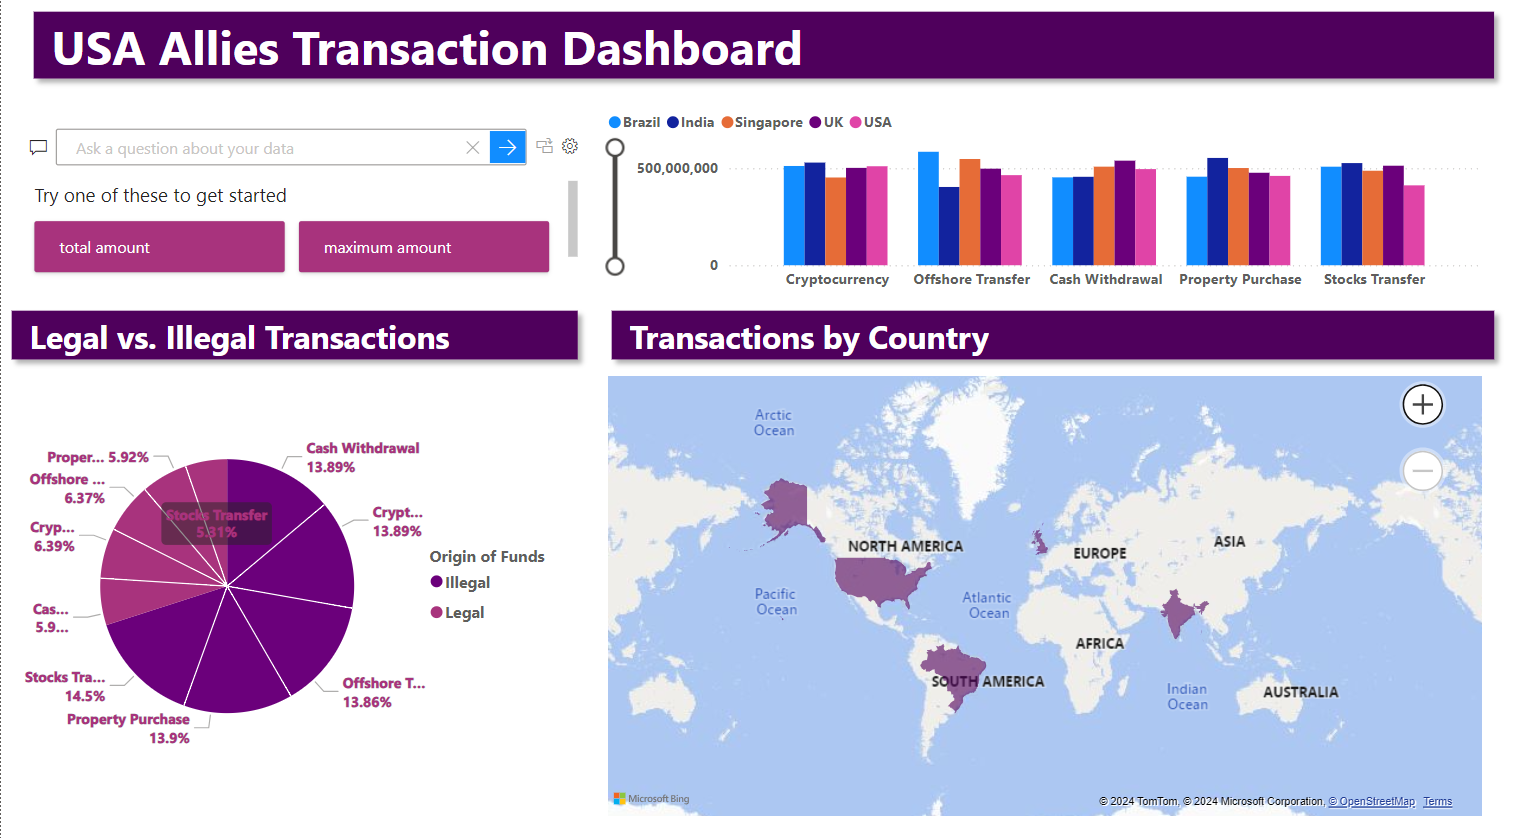

The dashboard page shown, as its layout file describes it:
{"tool":"powerbi","page":{"name":"Page 1","canvas":[1280,720],"ordinal":0},"visuals":[{"type":"shape","box":[18.8,11.6,1249.3,74.3],"z":0},{"type":"shape","box":[506,264.2,762.1,59.1],"z":1000},{"type":"shape","box":[0,264.2,495.2,59.1],"z":2000},{"type":"qnaVisual","box":[15.2,94,480,170.1],"z":3000},{"type":"pieChart","fields":{"Category":["Big_Black_Money_Dataset.Source of Money"],"Series":["Big_Black_Money_Dataset.Transaction Type"],"Y":["Sum(Big_Black_Money_Dataset.Amount)"]},"box":[15.2,323.3,471,364.5],"z":4000},{"type":"filledMap","fields":{"Category":["Big_Black_Money_Dataset.Country"]},"box":[506.9,323.3,746.9,380.6],"z":5000},{"type":"clusteredColumnChart","fields":{"Category":["Big_Black_Money_Dataset.Transaction Type"],"Series":["Big_Black_Money_Dataset.Country"],"Y":["Sum(Big_Black_Money_Dataset.Amount)"]},"box":[506.9,94,746.9,170.1],"z":5001}]}

Visuals, with their boxes in screenshot pixels (x1, y1, x2, y2), scaled from the page's 1280x720 canvas onto the 1519x838 screenshot:
shape: [22, 14, 1505, 100]
shape: [600, 307, 1505, 376]
shape: [0, 307, 588, 376]
qnaVisual: [18, 109, 588, 307]
pieChart - Big_Black_Money_Dataset.Source of Money x Big_Black_Money_Dataset.Transaction Type: [18, 376, 577, 801]
filledMap - Big_Black_Money_Dataset.Country: [602, 376, 1488, 819]
clusteredColumnChart - Big_Black_Money_Dataset.Transaction Type x Big_Black_Money_Dataset.Country: [602, 109, 1488, 307]
